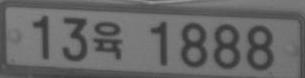1: (32, 15, 53, 59), (149, 20, 167, 64)
3: (62, 17, 87, 61)
8: (181, 21, 208, 66), (247, 26, 273, 69), (215, 24, 240, 67)
육: (93, 21, 123, 59)
